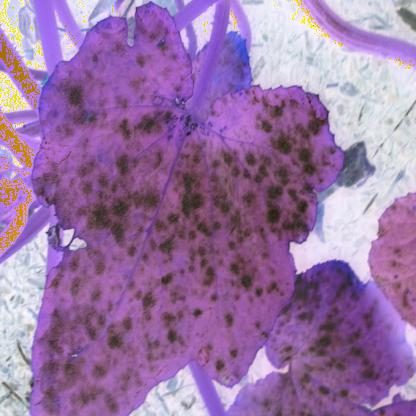squash powdery mildew leaf: (26, 8, 350, 415)
